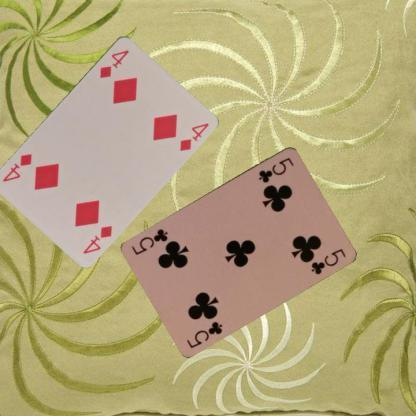4d: (97, 46, 130, 80), (80, 222, 114, 255)
5c: (184, 318, 224, 349), (256, 154, 296, 184)
